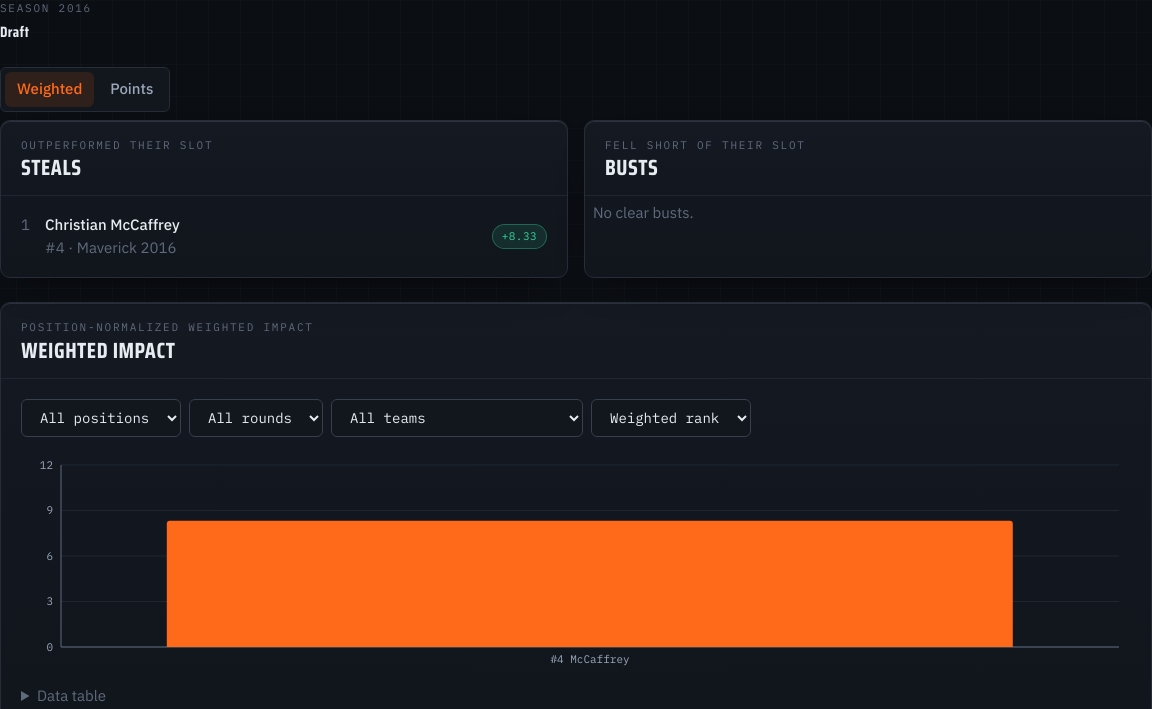
Test case: DraftPage › keeps the chart filters mounted when an ineligible position empties the chart
This screenshot has width=1152, height=709.
Select "K" in the dropdown named "Filter by position" at (101, 418), box [21,398,181,436]
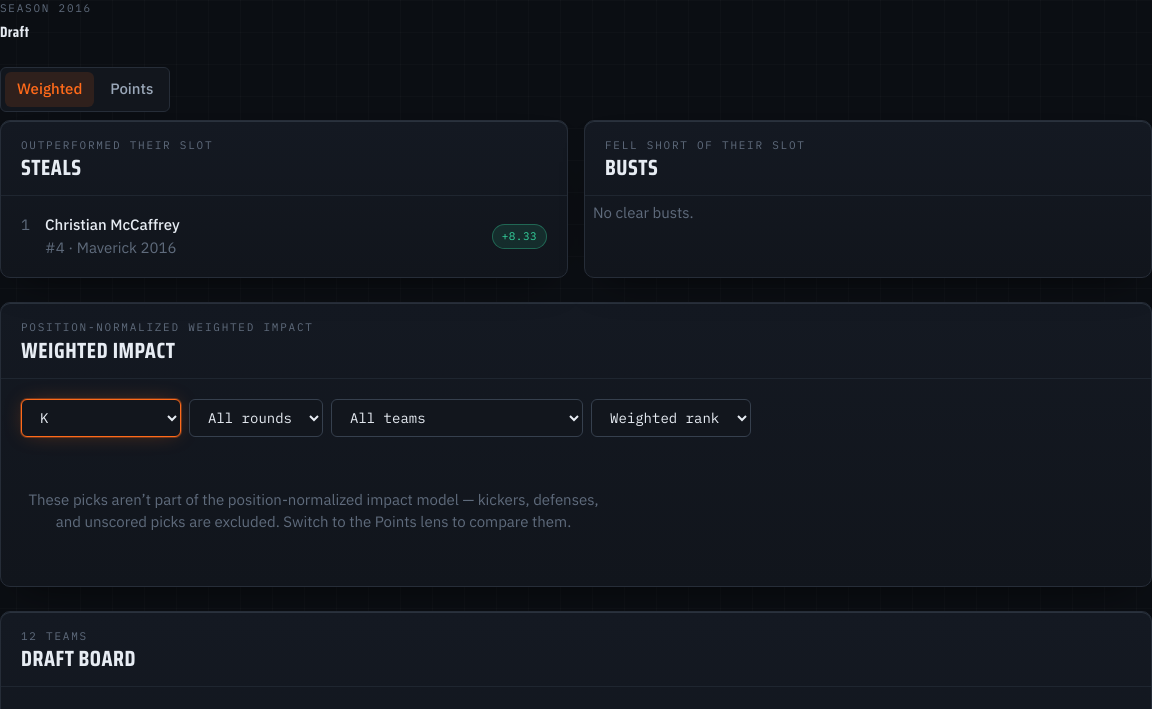
Result: the text "aren’t part of the position-normalized impact model" is shown at [28,490,598,531]
# Switching to the Points lens recovers a chart for the same selection.
Click the tab "Points" at (132, 89), box [98,72,165,106]
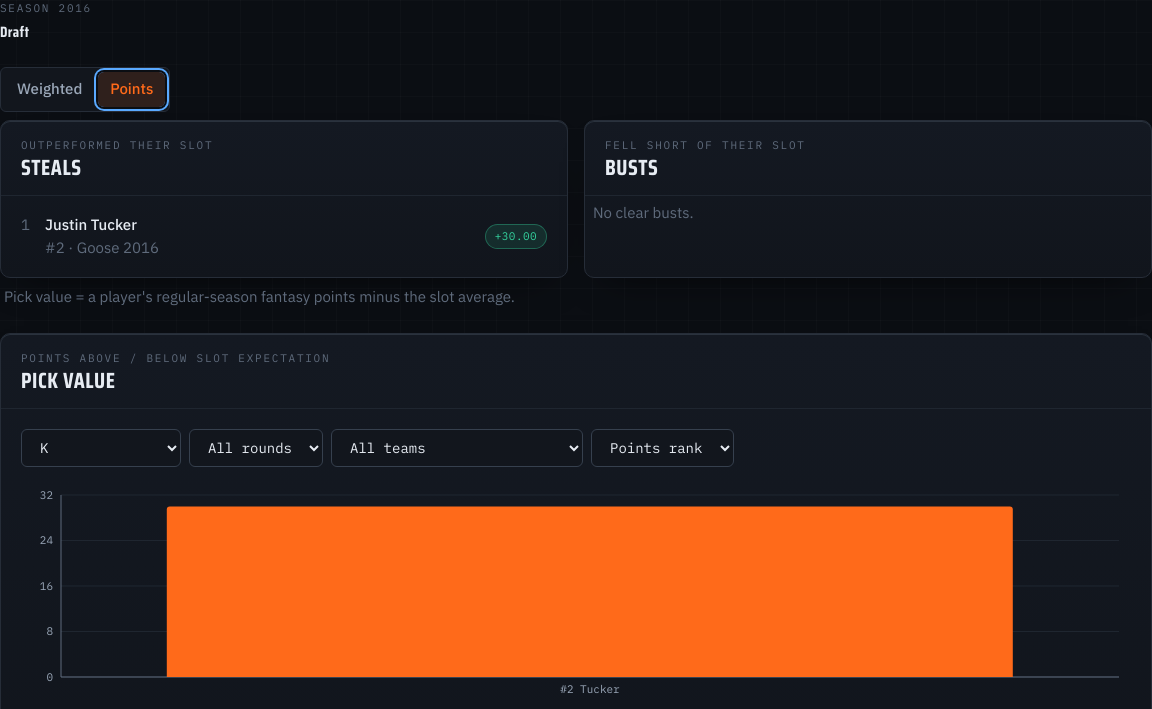
Result: the text "aren’t part of the position-normalized impact model" is gone
